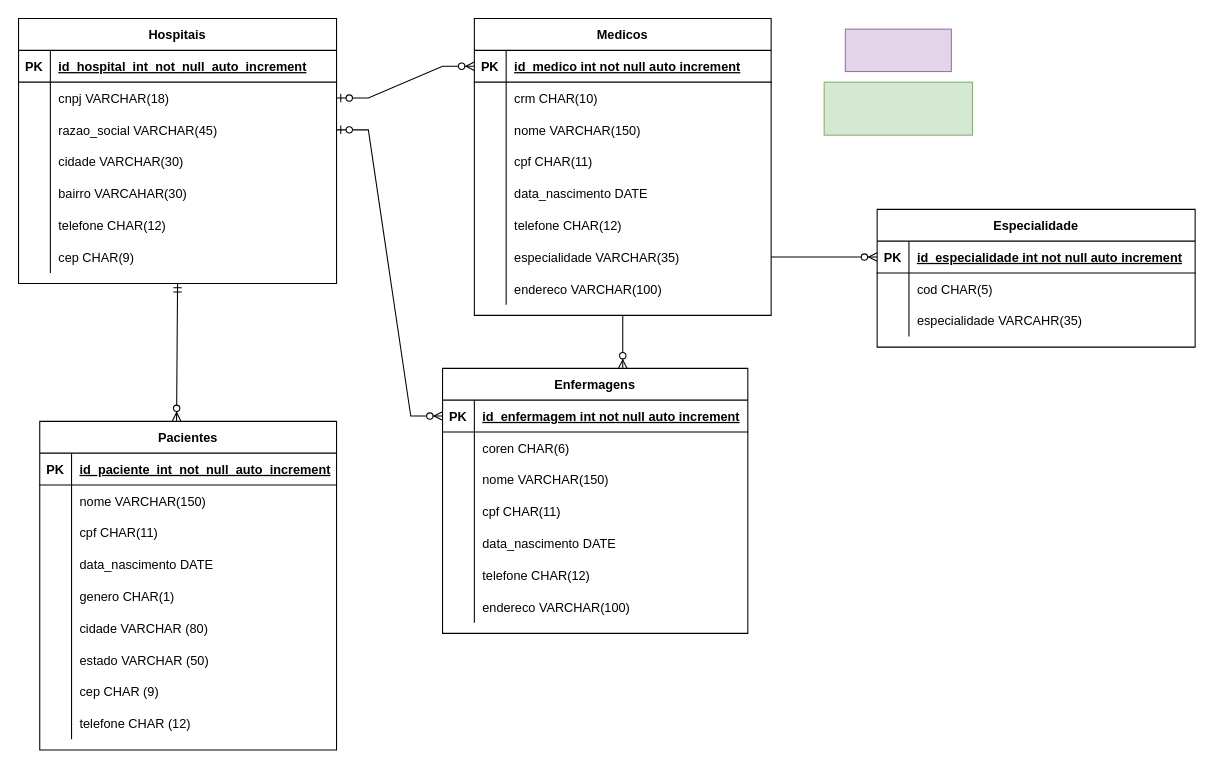
Some shapes in this 1214 by 768 pixel diagram are drawn without their labels. The centre of each missing label's shape, as x and y in pixels:
"Ariane Santos Turma 03" belongs at pixel 897 50.
"Modelo lógico de um Hospital com 05 entidades" belongs at pixel 898 108.
